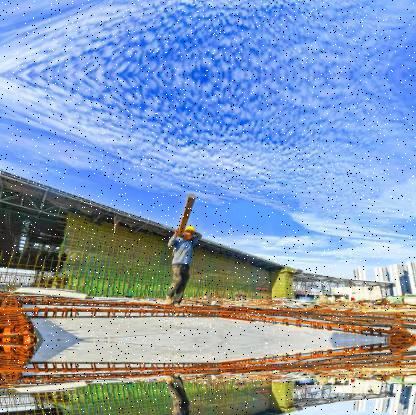helmet: (184, 224, 198, 239)
